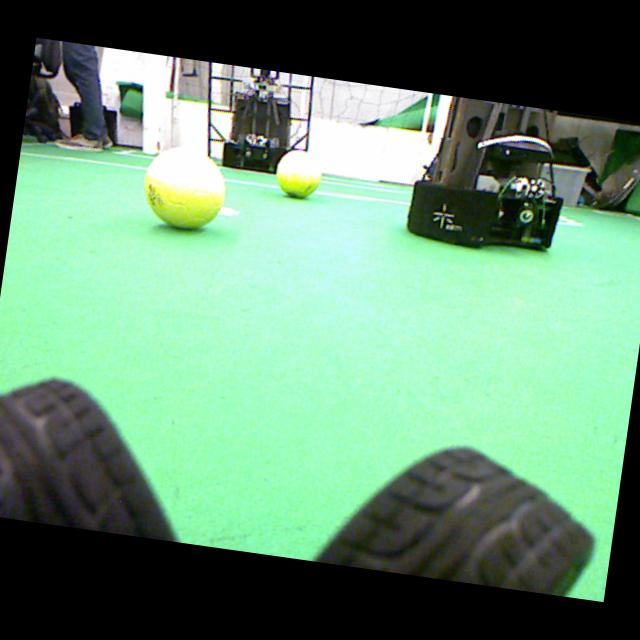ball: (145, 148, 225, 229), (276, 151, 322, 198)
goal: (143, 53, 161, 155)
robot: (407, 96, 565, 249), (222, 68, 295, 174)
